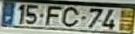1: (16, 3, 25, 24)
4: (101, 8, 115, 30)
5: (24, 4, 38, 25)
7: (87, 7, 103, 29)
C: (60, 6, 79, 28)
F: (44, 5, 62, 26)
